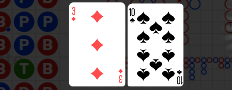10C: (128, 7, 136, 23)
3D: (70, 5, 76, 22)
